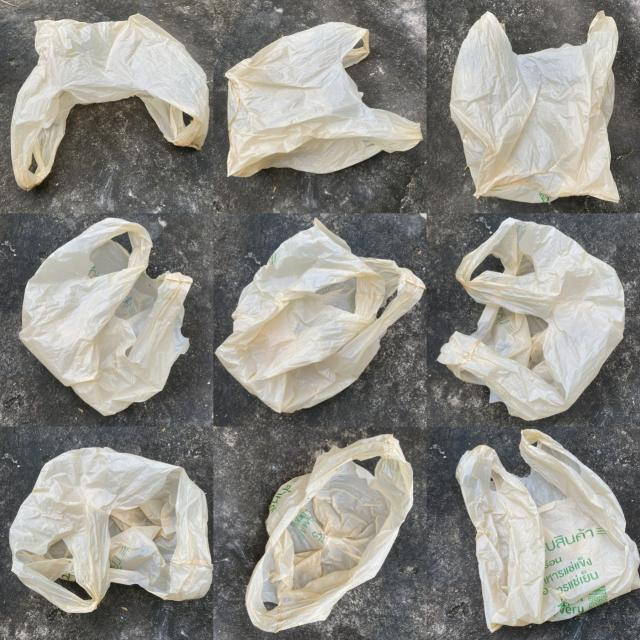Single-layer Plastic: (216, 219, 425, 412), (438, 218, 625, 420), (456, 430, 640, 631), (11, 14, 209, 189), (20, 218, 192, 415), (10, 448, 212, 612), (246, 435, 412, 632), (450, 11, 619, 202), (225, 22, 422, 176)
